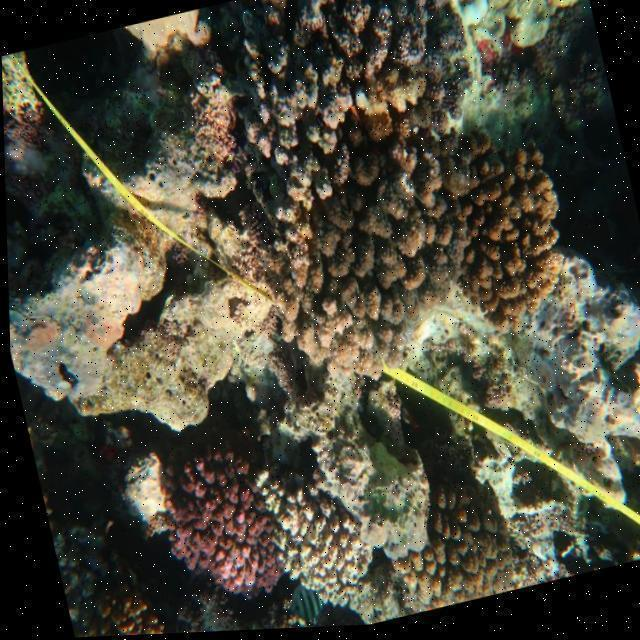Bleached Coral: (289, 493, 381, 600)
Dead Coral: (323, 134, 421, 311)
Healthy Coral: (143, 424, 283, 611)
